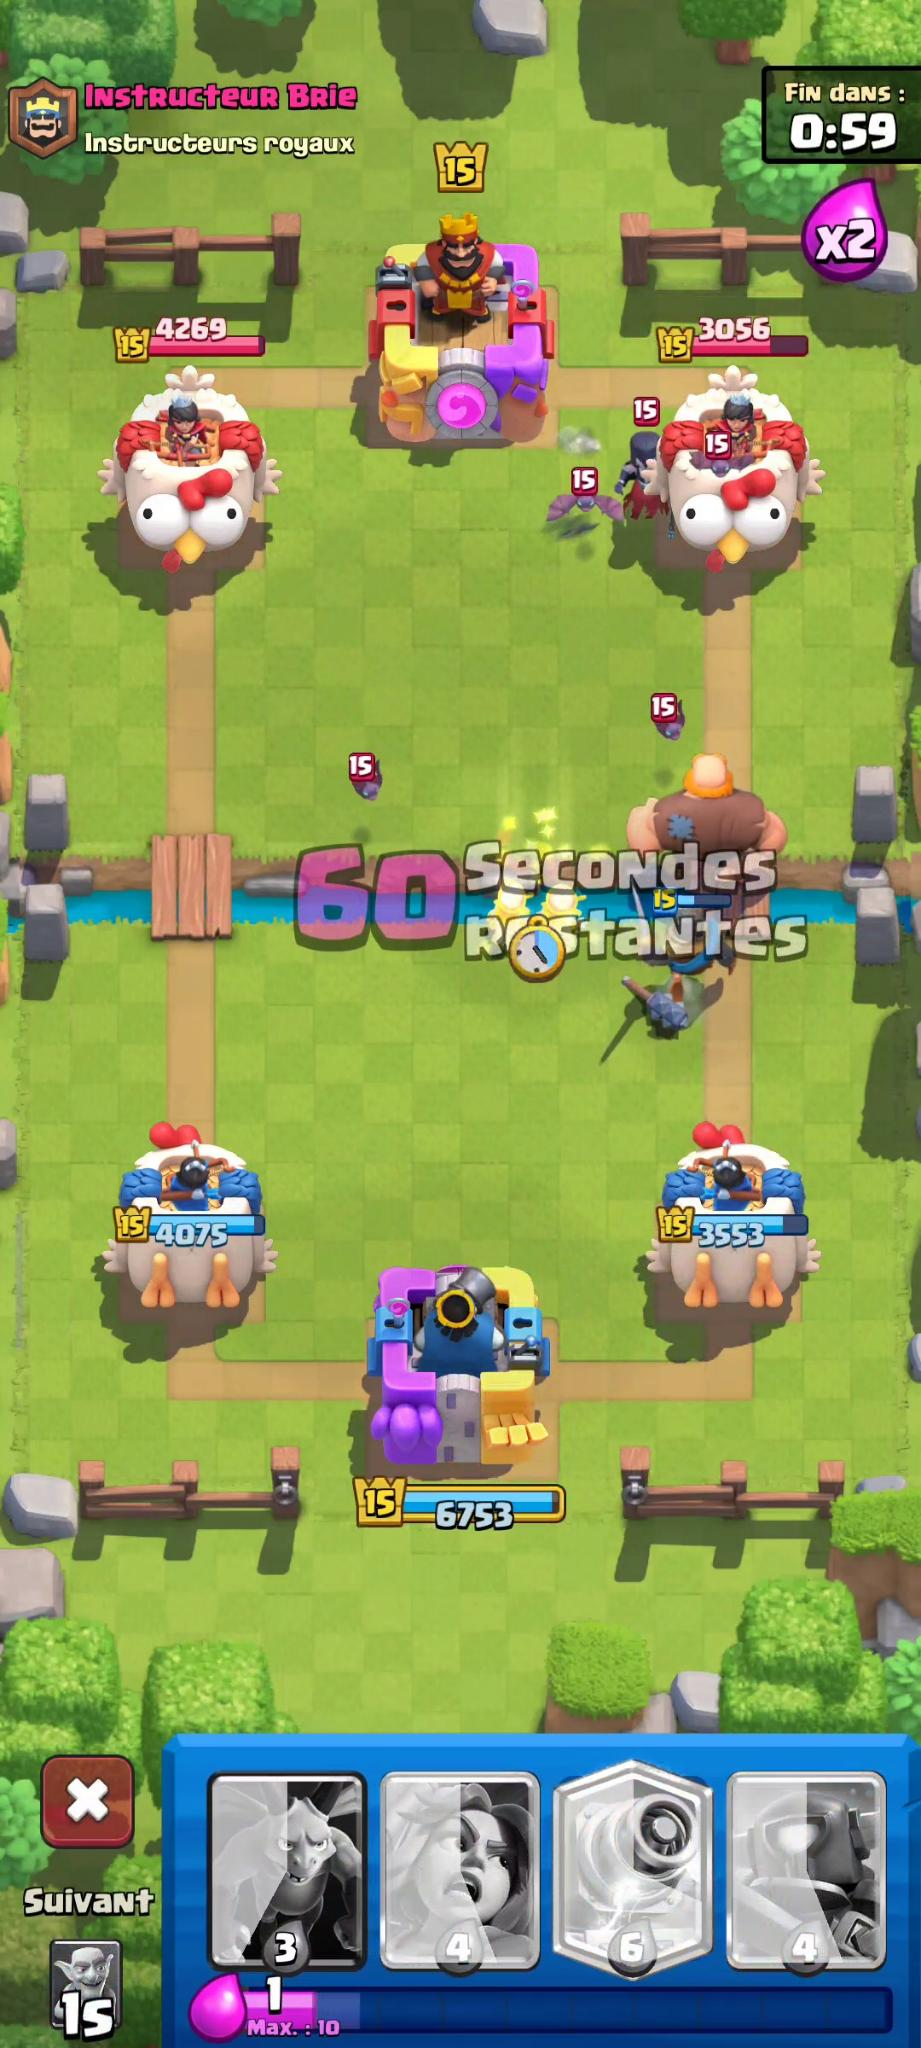archere: (534, 867, 601, 959), (470, 866, 534, 953)
bat: (541, 460, 631, 529), (345, 746, 395, 811), (647, 690, 696, 741)
chevalier: (632, 888, 756, 1000)
geant: (626, 744, 797, 913)
